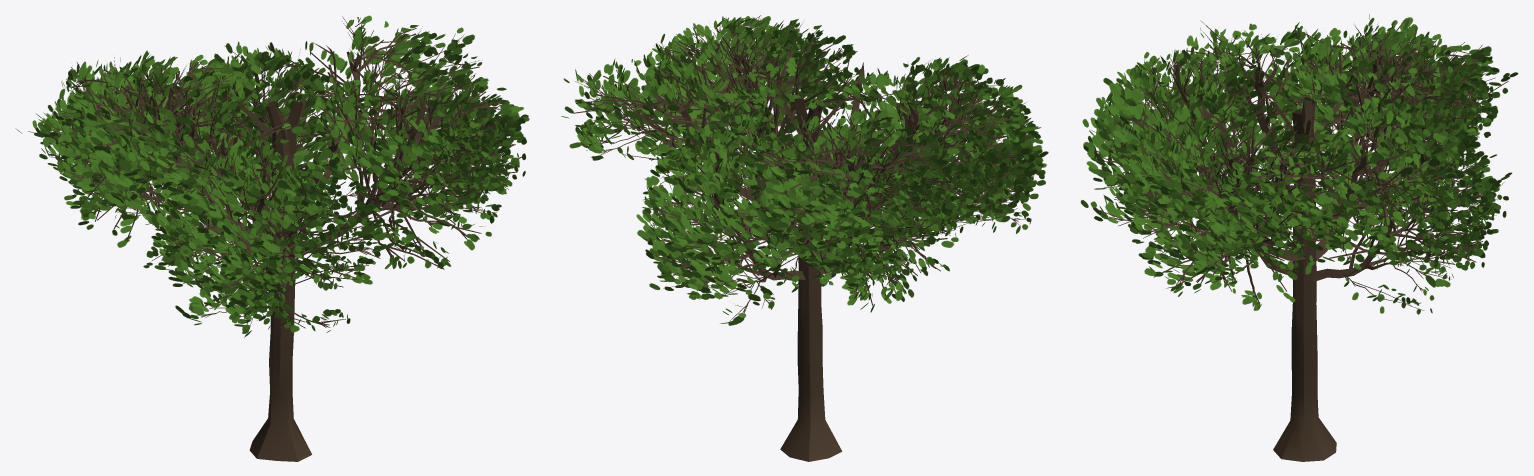
3 views of the same model, side by side, from view 1: azimuth 30°, elevation 25°; view 2: azimuth 150°, elevation 25°; view 3: azimuth 270°, elevation 25° (orthographic).
Parts seen in each view (by area): view 1: oak 01.001_trunk_Mat.001_0.098; view 2: oak 01.001_trunk_Mat.001_0.098; view 3: oak 01.001_trunk_Mat.001_0.098.
Part boxes in pixels (<box>): oak 01.001_trunk_Mat.001_0.098: <box>15,15,529,461</box>; oak 01.001_trunk_Mat.001_0.098: <box>561,15,1048,461</box>; oak 01.001_trunk_Mat.001_0.098: <box>1080,14,1518,461</box>.
Size of the model in its own units: 6.3 by 5.16 by 5.64.
Materials: 2 (1 with a texture image).
